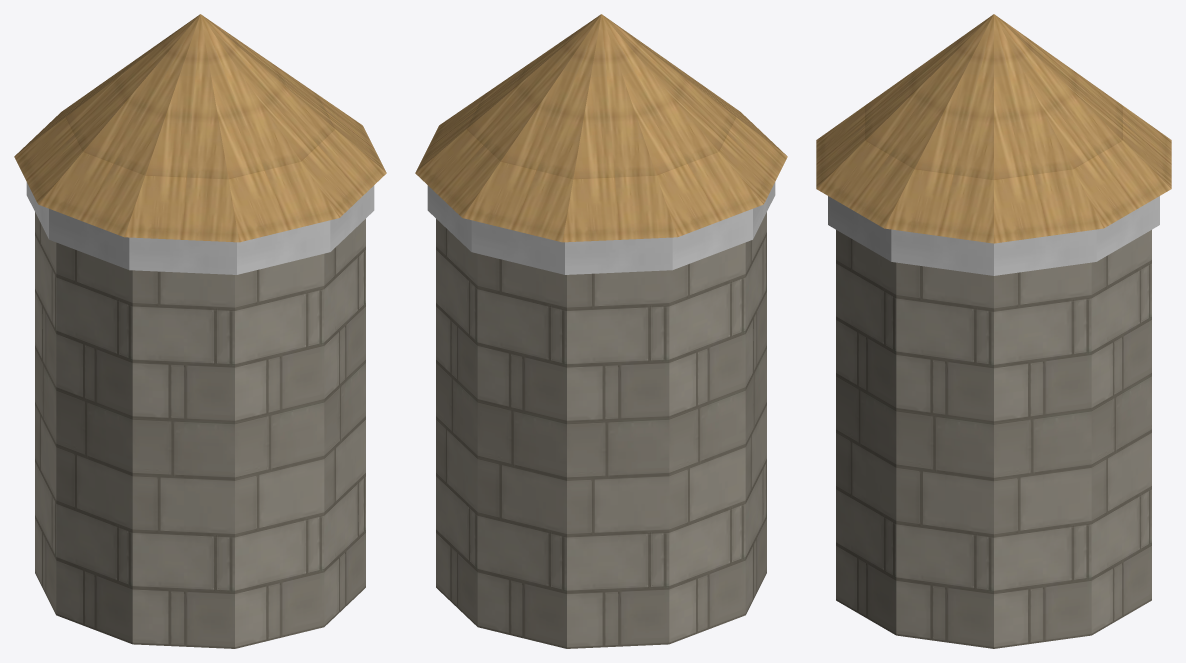
Rendered from tower.wallet.t1.glb.
The picture shows the model from 3 angles, left to right: view 1: azimuth 30°, elevation 25°; view 2: azimuth 150°, elevation 25°; view 3: azimuth 270°, elevation 25°; orthographic projection.
Visible parts, largest first — view 1: castle.tower.wallet.t1; view 2: castle.tower.wallet.t1; view 3: castle.tower.wallet.t1.
Part boxes in pixels (box(x1,y1,x2,y2)): castle.tower.wallet.t1: box(14, 14, 386, 648); castle.tower.wallet.t1: box(415, 14, 787, 648); castle.tower.wallet.t1: box(816, 14, 1171, 648).
Bounding box in the file's own units: 1.8 × 3 × 1.71.
Materials: 3 (3 with a texture image).
